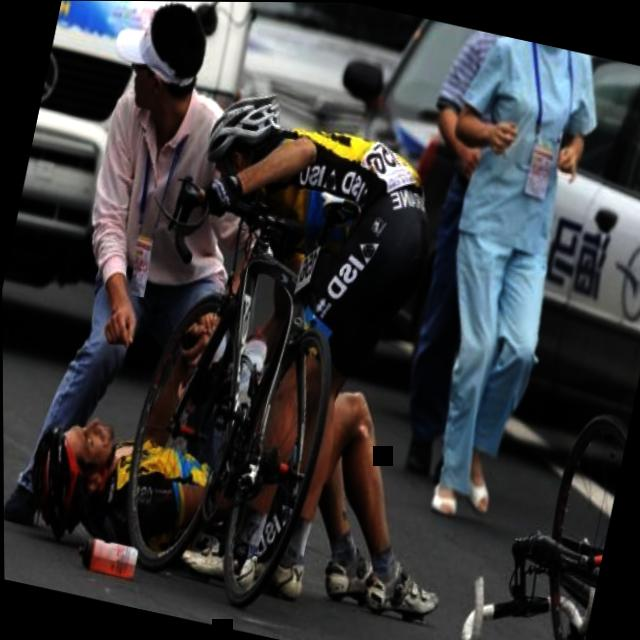Fall-Detected: (2, 277, 493, 637)
